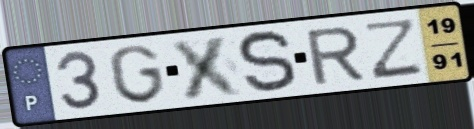3: (54, 48, 104, 113)
G: (106, 42, 169, 106)
R: (302, 23, 367, 87)
S: (235, 28, 300, 97)
X: (168, 32, 248, 102)
Z: (364, 16, 424, 82)
